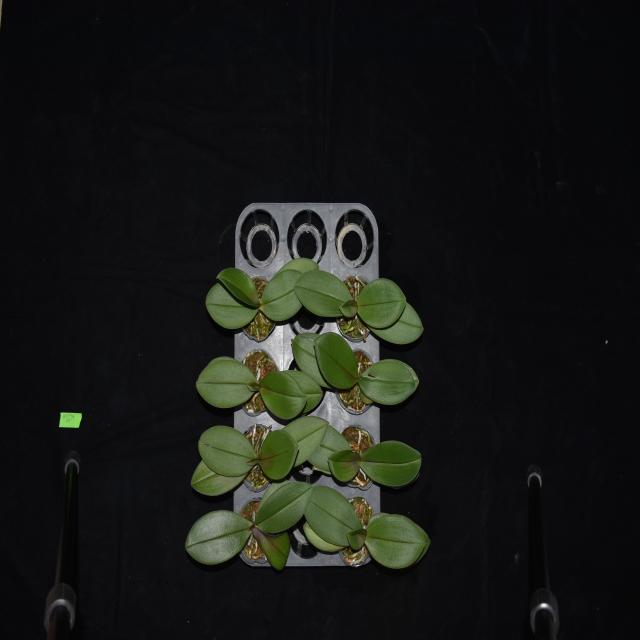leaf: (185, 511, 257, 565), (367, 511, 432, 570), (303, 484, 362, 546), (194, 357, 256, 410), (197, 422, 259, 475), (361, 437, 422, 488), (255, 482, 312, 536), (294, 264, 352, 317), (358, 361, 420, 408), (354, 278, 408, 330), (313, 330, 359, 390), (290, 329, 334, 391), (260, 267, 306, 322), (367, 298, 422, 344), (205, 284, 257, 332), (260, 425, 300, 483), (191, 458, 252, 496), (283, 417, 330, 466), (307, 421, 352, 472), (260, 371, 308, 418), (216, 268, 261, 312), (282, 371, 324, 414), (302, 518, 352, 553), (256, 523, 292, 569), (271, 256, 321, 280), (327, 448, 361, 482), (344, 524, 367, 552), (340, 298, 357, 322), (246, 378, 260, 392), (247, 453, 258, 468)
